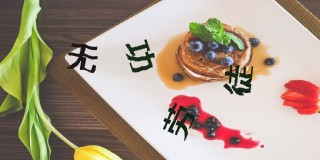功: (125, 39, 155, 71)
劳: (161, 103, 195, 141)
徒: (223, 64, 253, 96)
无: (65, 42, 99, 74)
